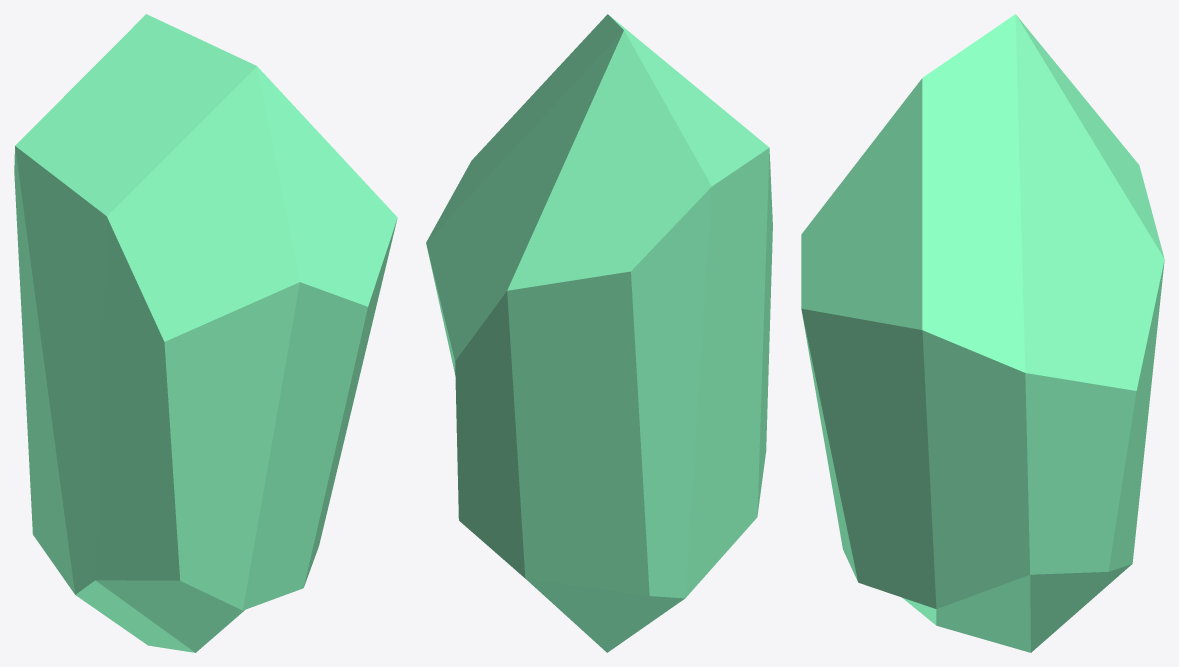
Rendered from crystal-green.glb.
The picture shows the model from 3 angles, left to right: view 1: azimuth 30°, elevation 25°; view 2: azimuth 150°, elevation 25°; view 3: azimuth 270°, elevation 25°; orthographic projection. The views are drawn at different scales.
Parts seen in each view (by area): view 1: Cube.007; view 2: Cube.007; view 3: Cube.007.
Boxes of the visible parts, bbox=[...] form: Cube.007: bbox=[14, 14, 397, 652]; Cube.007: bbox=[426, 14, 772, 652]; Cube.007: bbox=[801, 14, 1164, 652].
Size of the model in its own units: 0.1907 by 0.3695 by 0.1918.
